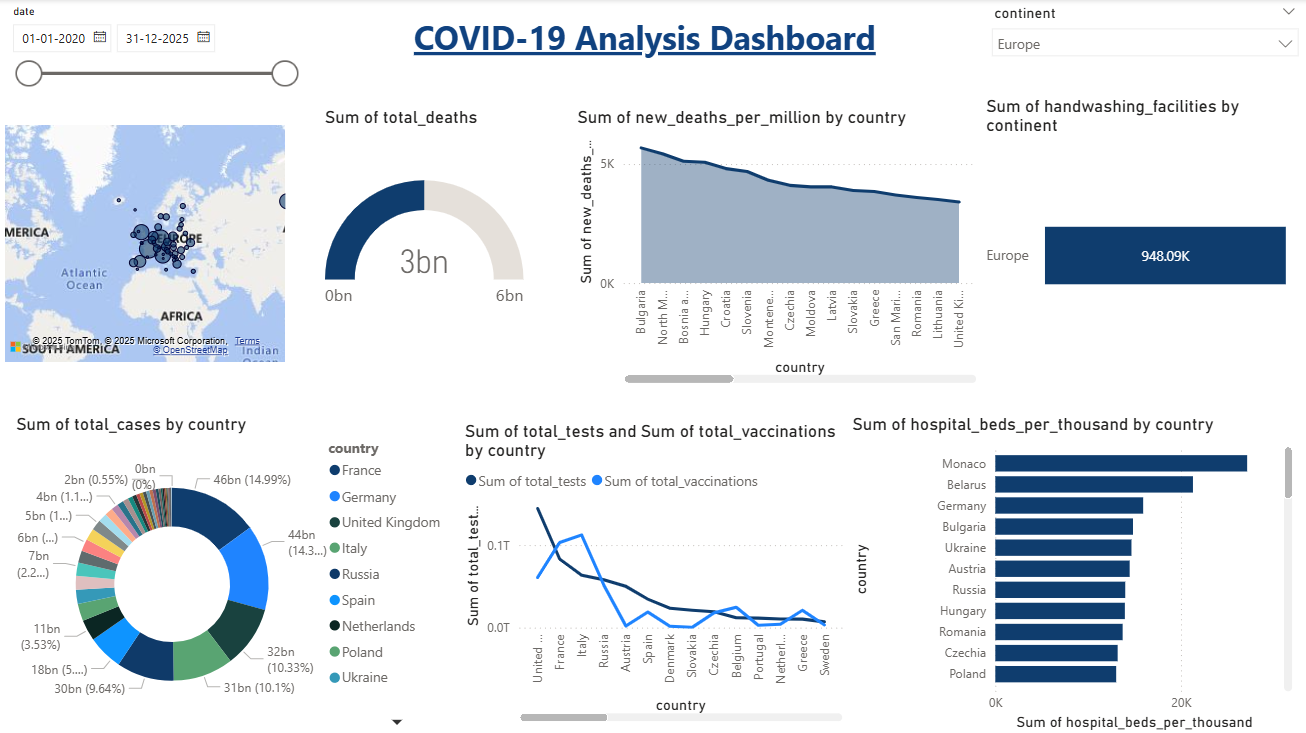

This screenshot's page, from the dashboard's own definition file:
{"tool":"powerbi","page":{"name":"dashboard","canvas":[1280,720],"ordinal":0},"visuals":[{"type":"areaChart","fields":{"Category":["compact.country"],"Y":["Sum(compact.new_deaths_per_million)"]},"box":[560,105.7,400,275.7],"z":0},{"type":"funnel","fields":{"Category":["compact.continent"],"Y":["Sum(compact.handwashing_facilities)"]},"box":[959.9,94.2,308.2,275.1],"z":1000},{"type":"gauge","fields":{"Y":["Sum(compact.total_deaths)"]},"box":[312.9,105.7,204.3,254.3],"z":2000},{"type":"donutChart","fields":{"Category":["compact.country"],"Y":["Sum(compact.total_cases)"]},"box":[11.4,405.7,447.1,314.3],"z":3000},{"type":"textbox","box":[997.1,445.7,151.4,198.6],"z":4000},{"type":"textbox","box":[400,11.1,480,72.2],"z":5000},{"type":"slicer","fields":{"Values":["compact.continent"]},"box":[960,0,320,94.5],"z":6000},{"type":"map","fields":{"Category":["compact.country"],"Size":["Sum(compact.new_cases)"]},"box":[0,84.3,284.3,275.7],"z":7000},{"type":"barChart","fields":{"Category":["compact.country"],"Y":["Sum(compact.hospital_beds_per_thousand)"]},"box":[829.1,406,440.2,314.3],"z":8000},{"type":"slicer","fields":{"Values":["compact.date"]},"box":[0,0,300,122.9],"z":9000},{"type":"lineChart","fields":{"Category":["compact.country"],"Y":["Sum(compact.total_tests)","Sum(compact.total_vaccinations)"]},"box":[450,412.1,379.1,299.6],"z":10000}]}

Visuals, with their boxes in screenshot pixels (x1, y1, x2, y2), scaled from the page's 1280x720 canvas onto the 1306x733 screenshot:
areaChart - compact.country x Sum(compact.new_deaths_per_million): [571, 108, 980, 388]
funnel - compact.continent x Sum(compact.handwashing_facilities): [979, 96, 1294, 376]
gauge - Sum(compact.total_deaths): [319, 108, 528, 366]
donutChart - compact.country x Sum(compact.total_cases): [12, 413, 468, 732]
textbox: [1017, 454, 1172, 656]
textbox: [408, 11, 898, 85]
slicer - compact.continent: [980, 0, 1305, 96]
map - compact.country x Sum(compact.new_cases): [0, 86, 290, 366]
barChart - compact.country x Sum(compact.hospital_beds_per_thousand): [846, 413, 1295, 732]
slicer - compact.date: [0, 0, 306, 125]
lineChart - compact.country x Sum(compact.total_tests): [459, 420, 846, 725]
